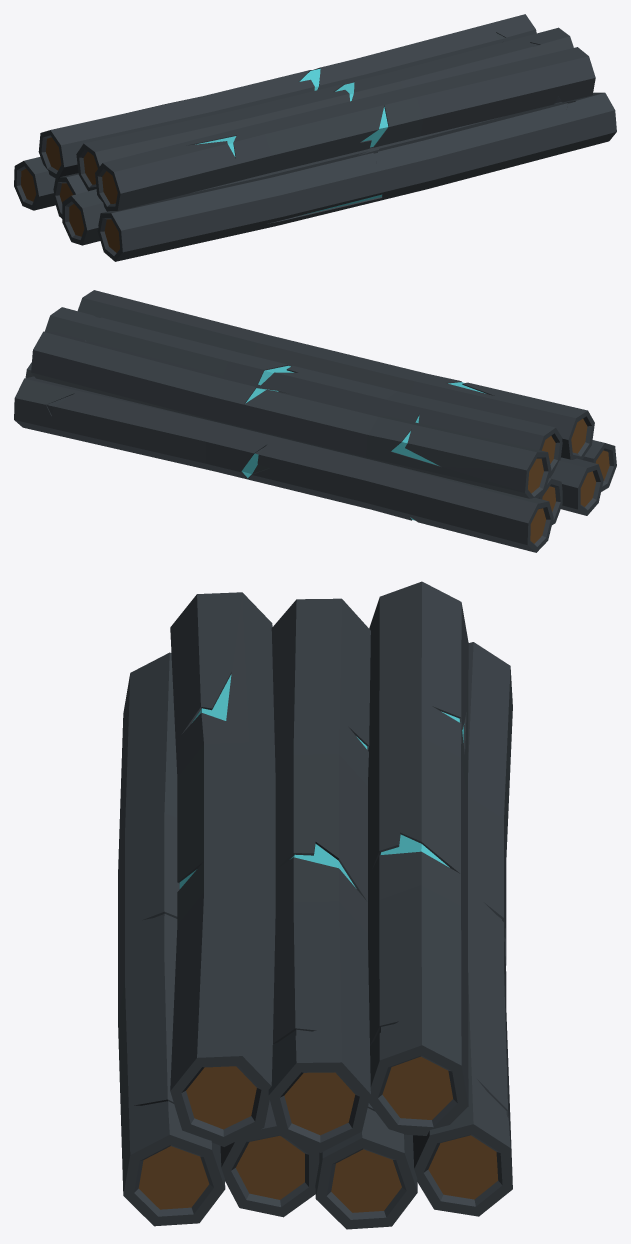
The model's file is props_86.gltf.
The picture shows the model from 3 angles, top to bottom: view 1: azimuth 30°, elevation 25°; view 2: azimuth 150°, elevation 25°; view 3: azimuth 270°, elevation 25°; orthographic projection. The views are drawn at different scales.
Parts seen in each view (by area): view 1: props_86; view 2: props_86; view 3: props_86.
Boxes of the visible parts, x1,y1,x2,y2 form: props_86: [14, 14, 616, 261]; props_86: [14, 290, 616, 552]; props_86: [118, 581, 512, 1229].
Size of the model in its own units: 3.14 by 0.4982 by 1.05.
1 material, 1 textured.
